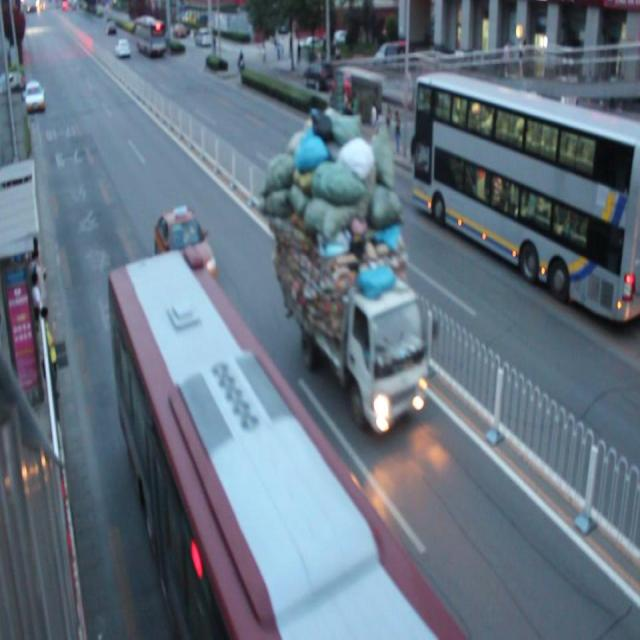bus: (285, 113, 426, 426)
car: (153, 204, 219, 283)
van: (106, 249, 467, 640), (411, 72, 640, 319)
